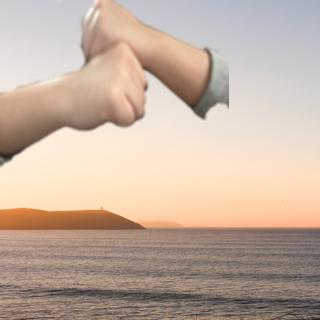CAREFUL: (2, 0, 221, 151)
